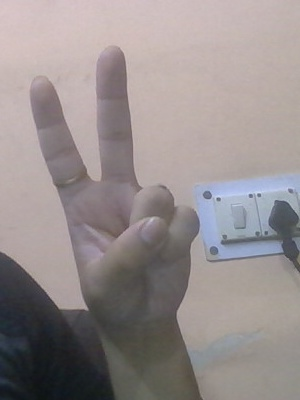V: (29, 45, 207, 332)
